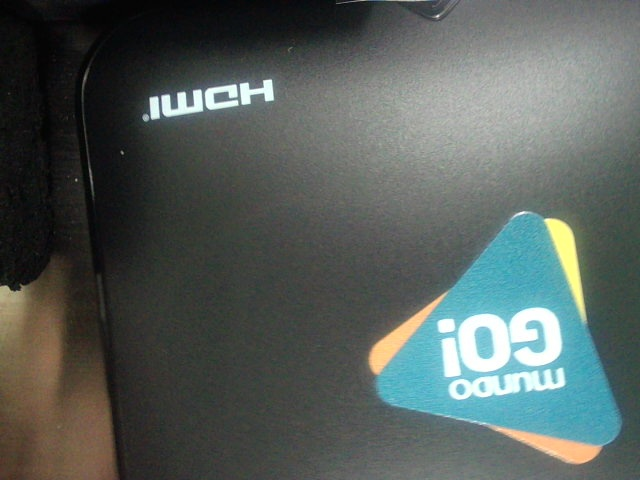AP_IPGMundoGO: (354, 205, 631, 464)
